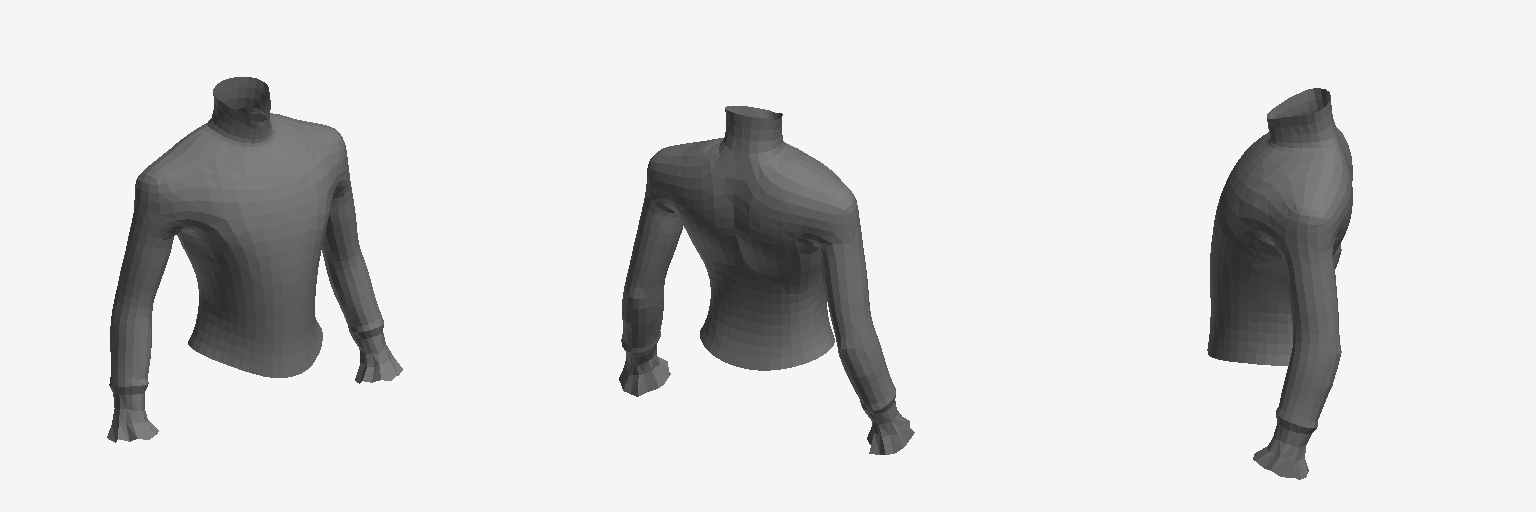
The model's file is LowPoly_FilhaAristocrata_Camisa.obj.
The picture shows the model from 3 angles: view 1: azimuth 30°, elevation 25°; view 2: azimuth 150°, elevation 25°; view 3: azimuth 270°, elevation 25°; orthographic projection.
Parts seen in each view (by area): view 1: LowPoly_FilhaAristocrata_Camisa; view 2: LowPoly_FilhaAristocrata_Camisa; view 3: LowPoly_FilhaAristocrata_Camisa.
Boxes of the visible parts, box(x1,y1,x2,y2) form: LowPoly_FilhaAristocrata_Camisa: box(107, 77, 402, 442); LowPoly_FilhaAristocrata_Camisa: box(619, 106, 914, 454); LowPoly_FilhaAristocrata_Camisa: box(1207, 88, 1352, 479).
Size of the model in its own units: 29.78 by 31.79 by 13.15.